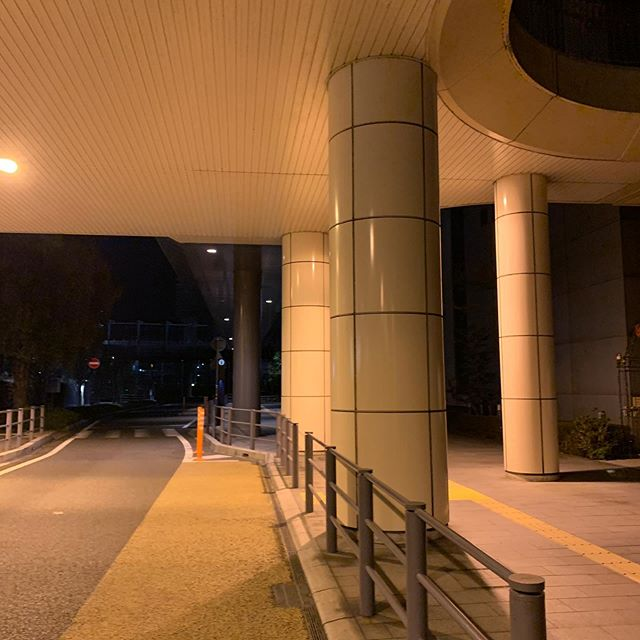collumn: (319, 52, 465, 544), (488, 172, 570, 485), (266, 231, 340, 491)
crosswalk: (61, 414, 191, 449)
street: (1, 421, 202, 640)
